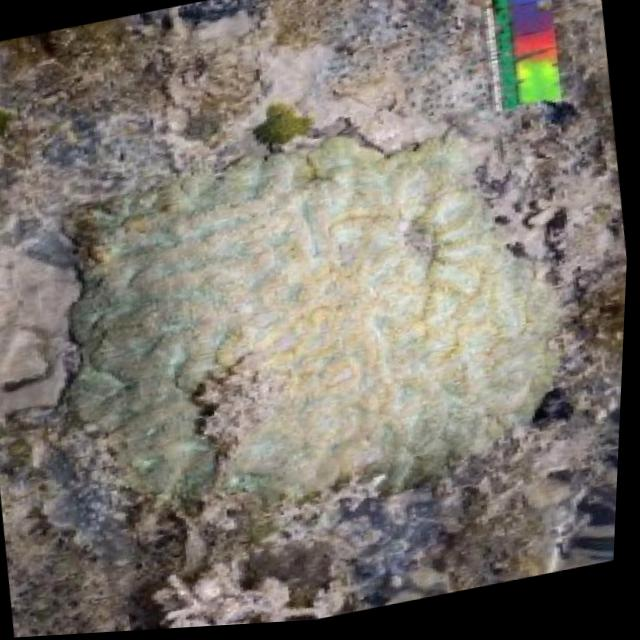Bleached Coral: (45, 88, 621, 595)
